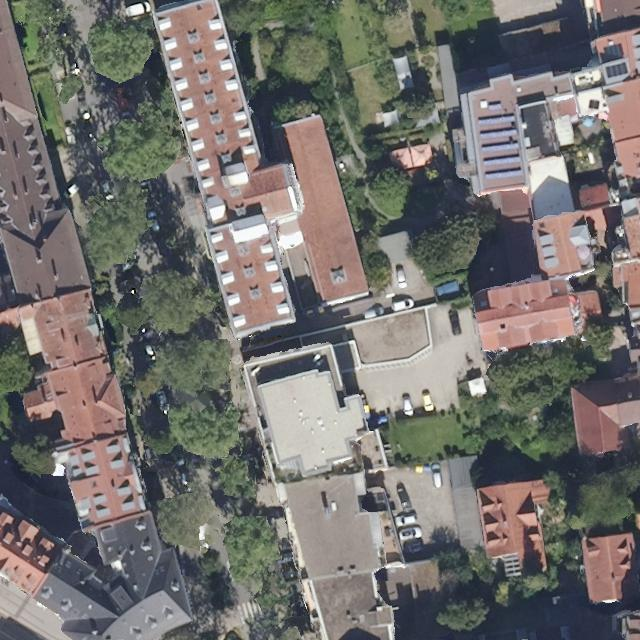PV: (599, 42, 625, 65), (605, 61, 629, 79)
